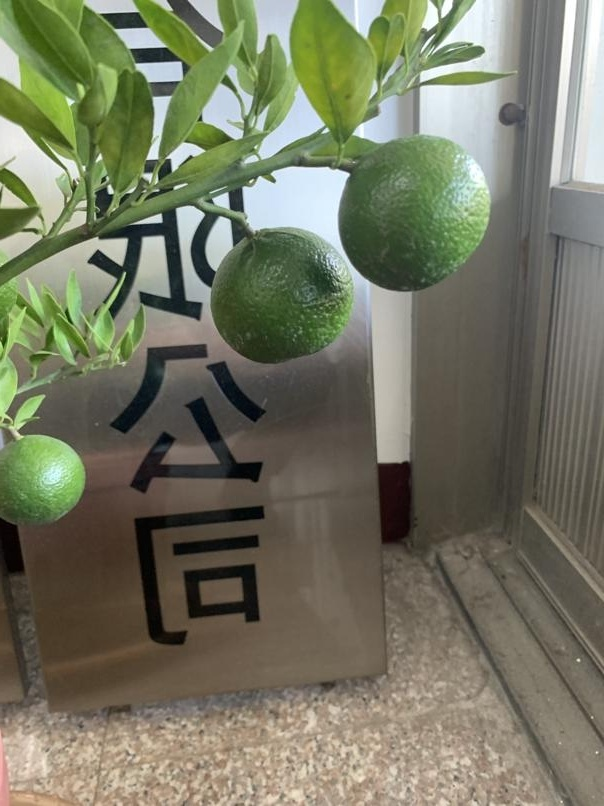Tangerine: (331, 132, 482, 285), (208, 218, 349, 359), (0, 430, 89, 527)
